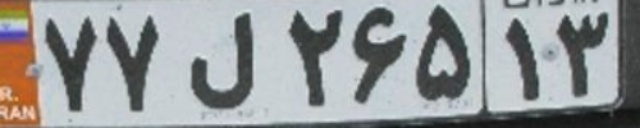1: (498, 17, 543, 100)
2: (288, 9, 341, 105)
3: (556, 8, 609, 96)
5: (414, 3, 471, 99)
6: (42, 13, 97, 113), (103, 13, 158, 112), (352, 6, 405, 105)
lam: (191, 12, 252, 109)
